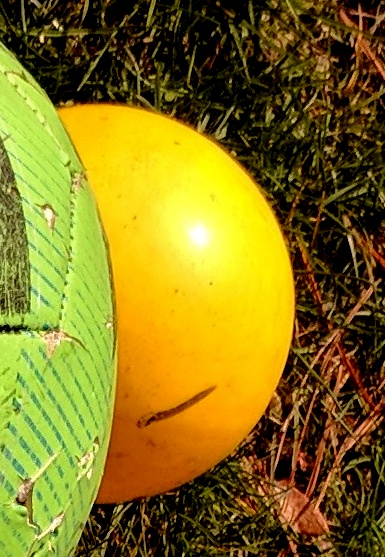ball: (47, 98, 302, 505)
